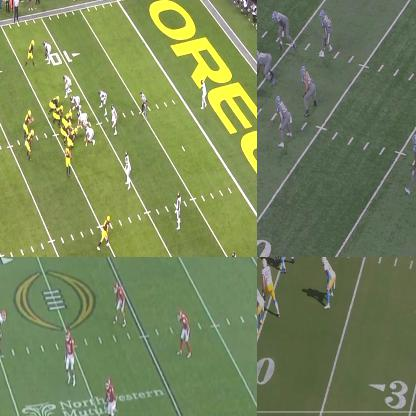CENTER: (62, 111, 73, 125)
DB: (318, 7, 335, 58), (113, 284, 126, 323), (178, 312, 190, 354), (409, 133, 415, 193), (174, 192, 182, 229), (200, 80, 207, 110), (42, 41, 50, 62)
LB: (276, 92, 293, 150), (272, 10, 295, 49), (301, 63, 316, 116), (322, 257, 335, 311), (64, 330, 74, 384), (105, 379, 119, 415), (98, 87, 108, 114), (109, 104, 118, 133), (257, 282, 262, 333), (124, 151, 130, 188), (62, 74, 72, 94)
QB: (24, 108, 34, 132)
SKILL: (99, 216, 111, 247), (0, 308, 6, 355), (25, 130, 33, 158), (64, 141, 70, 178), (28, 39, 36, 64)
